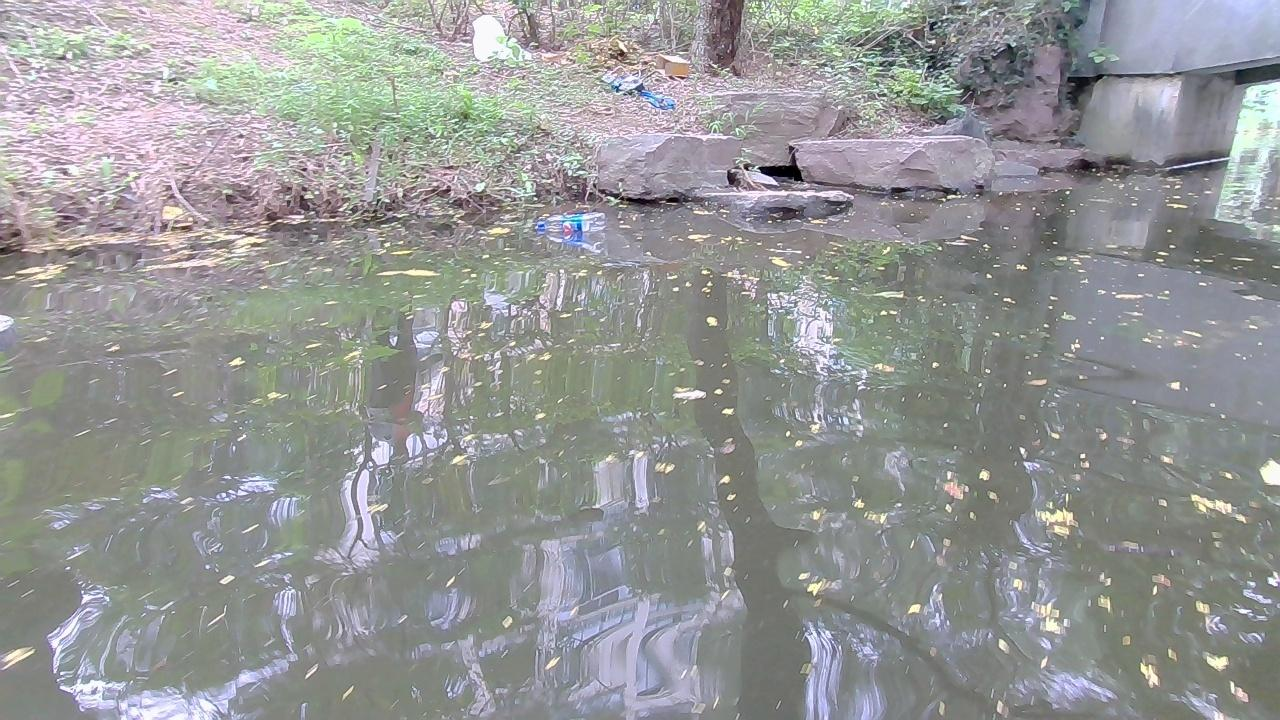bottle: (530, 208, 605, 231)
